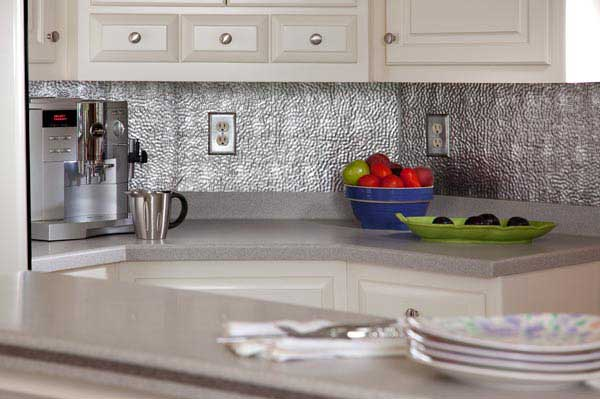outlet: (217, 121, 227, 132), (218, 135, 228, 145), (433, 137, 442, 148), (434, 124, 441, 133)
